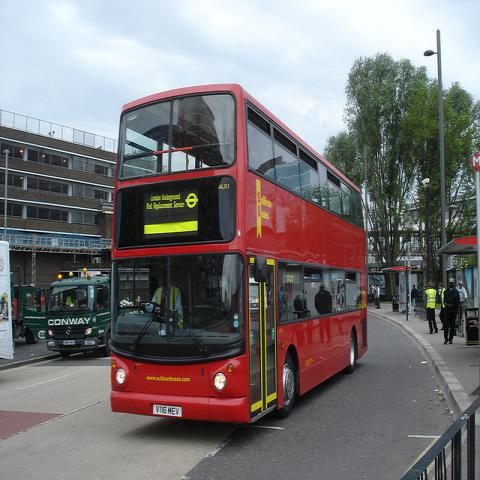bus: (107, 80, 368, 427)
truck: (51, 269, 109, 358), (10, 284, 50, 344)
